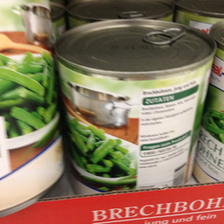beans: (50, 19, 212, 204)
